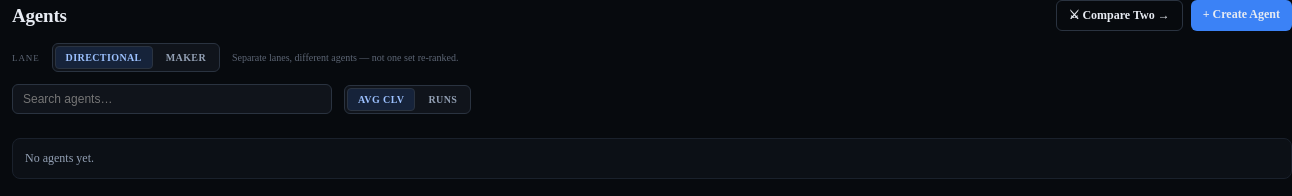
AgentsScreen — live maker result loading (F-9) › renders an honest unavailable state with zero maker rows when the API rejects
Step 1. Click the radio button labelled "Maker" → [186, 58], box [155,46,217,69]
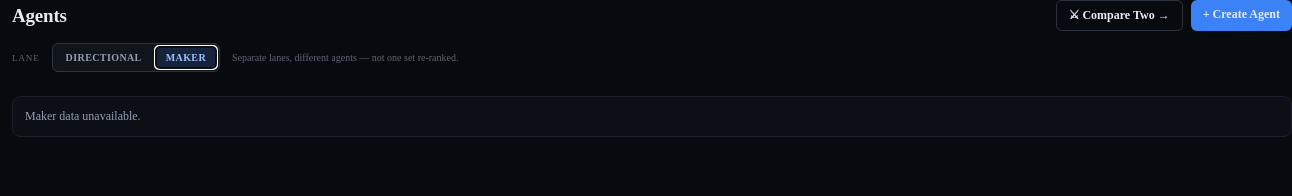
Check: the message with test id "maker-unavailable" shows "Maker data unavailable", box [25,109,141,123]
